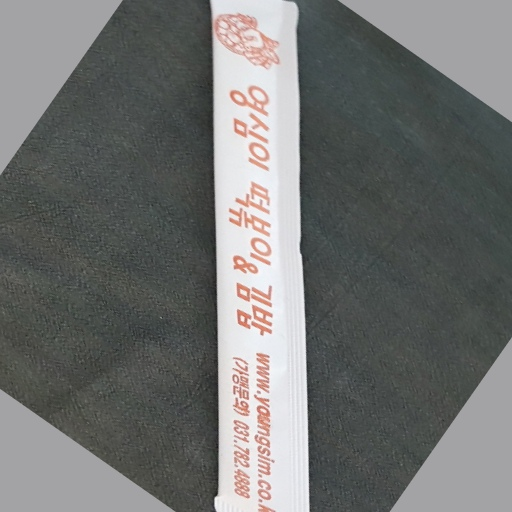Paper_2: (206, 1, 322, 512)
